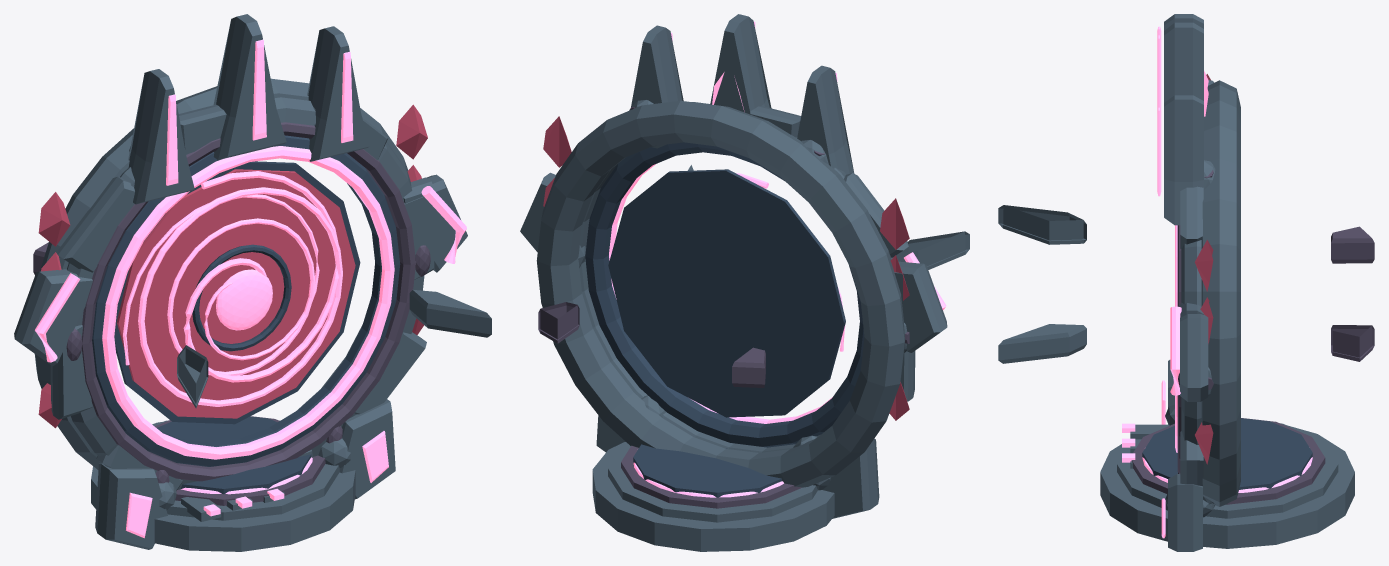
Rendered from portal_pvp.glb.
3 renders of one model, left to right at view 1: azimuth 30°, elevation 25°; view 2: azimuth 150°, elevation 25°; view 3: azimuth 270°, elevation 25°, orthographic. The views are drawn at different scales.
Visible parts, largest first — view 1: group_graphite, group_red, group_ruby, group_black, group_obsidian; view 2: group_graphite, group_black, group_obsidian, group_ruby, group_red; view 3: group_graphite, group_obsidian, group_black, group_red, group_ruby.
Boxes of the visible parts, x1=… form: group_graphite: x1=14, y1=14, x2=491, y2=551; group_red: x1=35, y1=39, x2=466, y2=538; group_ruby: x1=38, y1=104, x2=427, y2=428; group_black: x1=92, y1=135, x2=400, y2=494; group_obsidian: x1=33, y1=122, x2=430, y2=505; group_graphite: x1=520, y1=14, x2=969, y2=551; group_black: x1=585, y1=142, x2=864, y2=497; group_obsidian: x1=538, y1=107, x2=909, y2=508; group_ruby: x1=543, y1=116, x2=909, y2=420; group_red: x1=609, y1=21, x2=946, y2=497; group_graphite: x1=998, y1=14, x2=1354, y2=551; group_obsidian: x1=1130, y1=170, x2=1374, y2=504; group_black: x1=1142, y1=418, x2=1312, y2=489; group_red: x1=1122, y1=26, x2=1312, y2=538; group_ruby: x1=1194, y1=74, x2=1213, y2=464.
Size of the model in its own units: 6.74 by 7.27 by 5.17.
